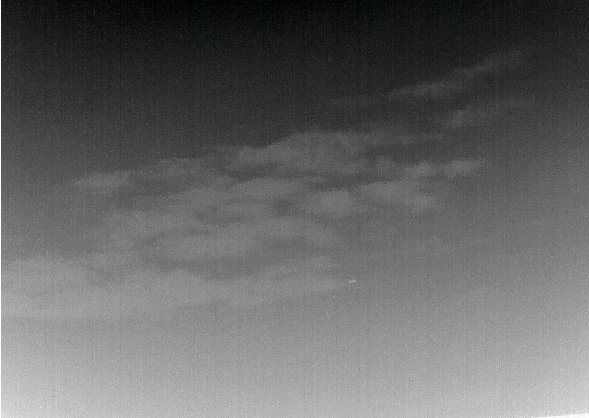dim target: (348, 278, 356, 284)
